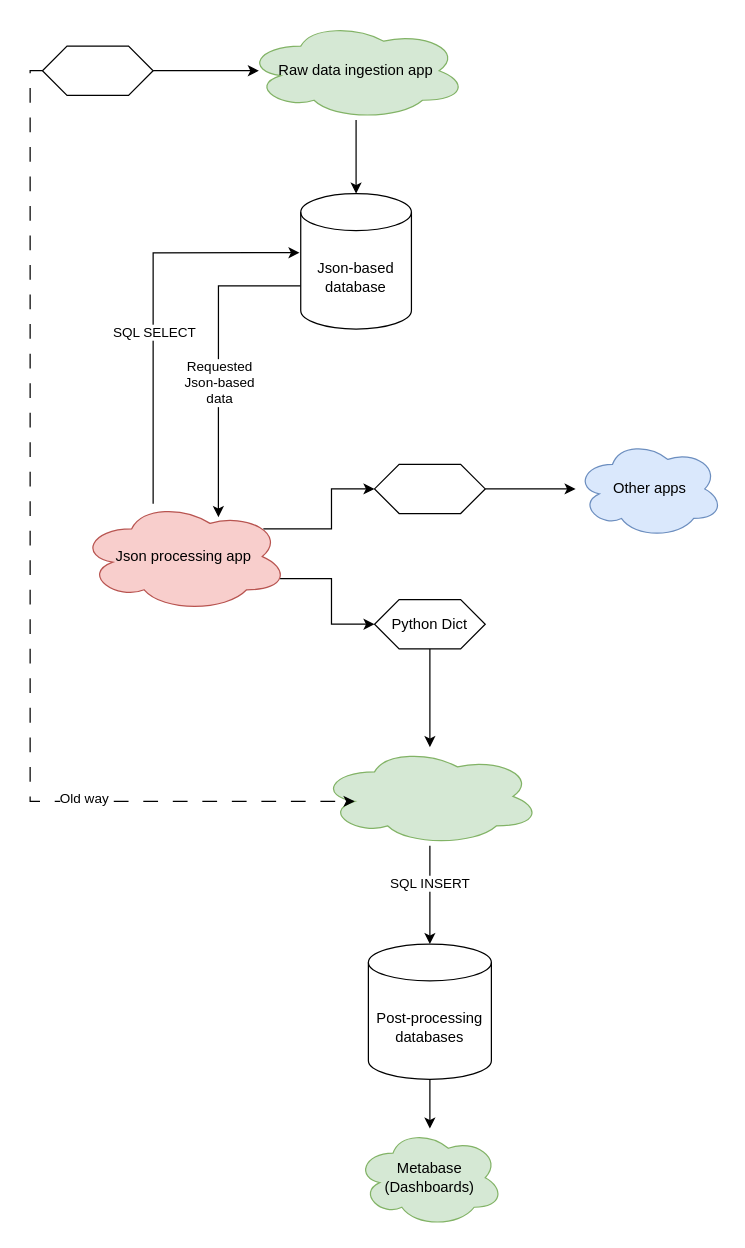
This 745x1248 diagram has some shape labels left out. The shapes that lost their labels are listed below. From the top down, each one's centre as x and y in pixels, then its label:
(97,70): Sensors raw data
(429,488): Json files
(429,796): Post-processing data ingestion apps
